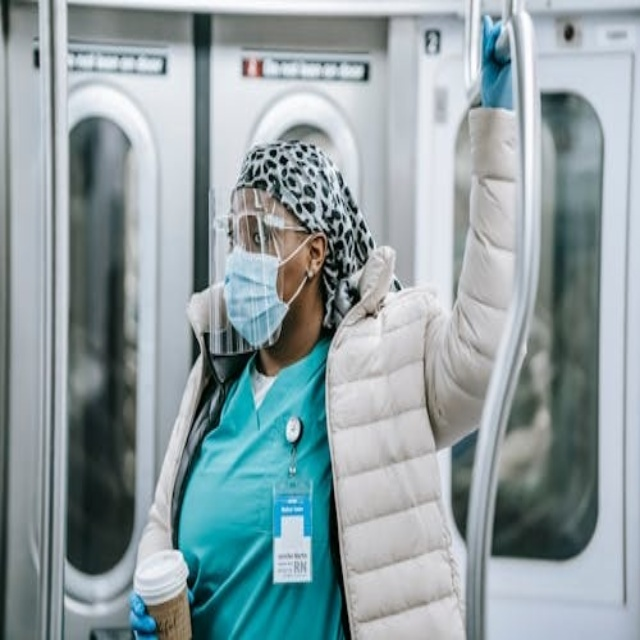Gafas: (212, 210, 312, 256)
Guantes: (479, 13, 513, 112), (128, 591, 158, 639)
Mascara: (224, 233, 301, 348)
